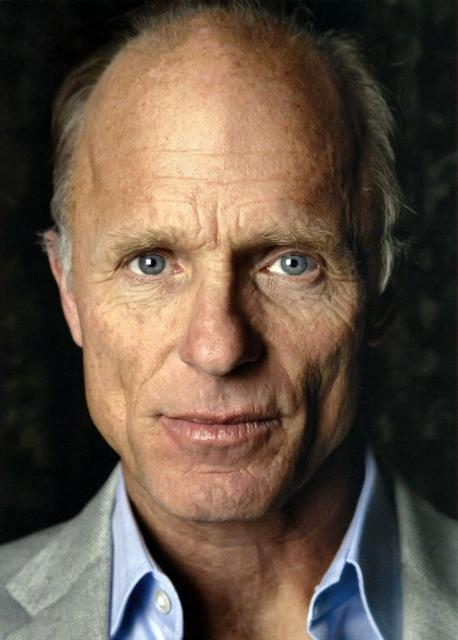chin: (187, 462, 251, 482)
crows_feet: (94, 252, 121, 294), (323, 266, 351, 306)
forehead: (150, 138, 204, 160), (156, 166, 206, 184)
frown_line: (205, 207, 226, 253), (189, 206, 207, 248)
